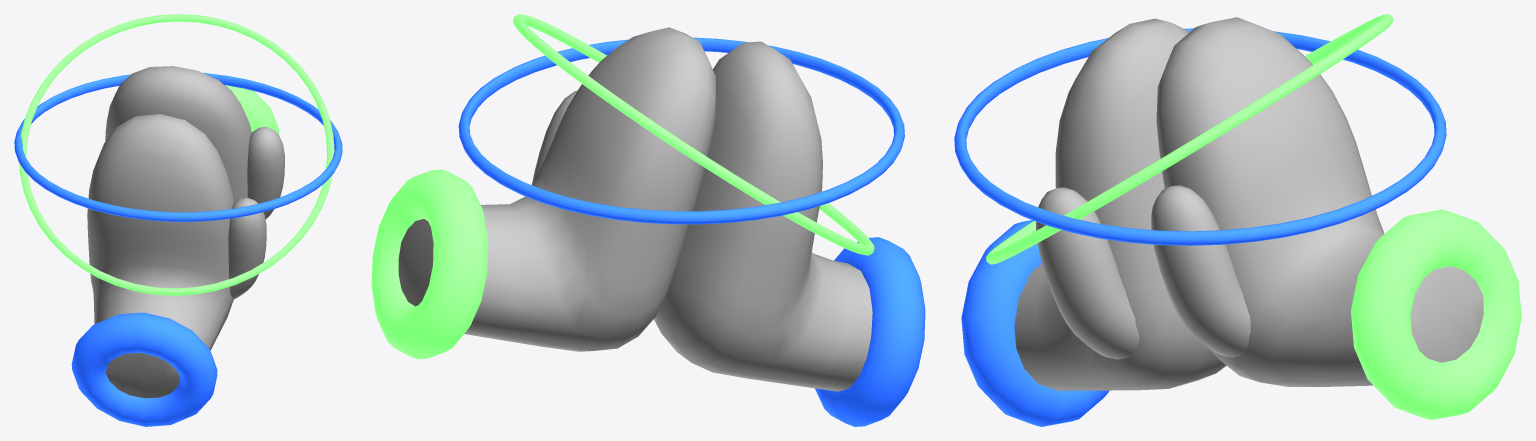
Rendered from Cat_JoinUs.glb.
3 renders of one model, left to right at view 1: azimuth 30°, elevation 25°; view 2: azimuth 150°, elevation 25°; view 3: azimuth 270°, elevation 25°, orthographic. The views are drawn at different scales.
Visible parts, largest first — view 1: JoinUs_Group; view 2: JoinUs_Group; view 3: JoinUs_Group.
Part boxes in pixels (x1,y1,x2,y2): JoinUs_Group: (14, 14, 342, 426); JoinUs_Group: (371, 14, 925, 426); JoinUs_Group: (954, 14, 1521, 426).
Size of the model in its own units: 0.8152 by 0.803 by 0.8839.
